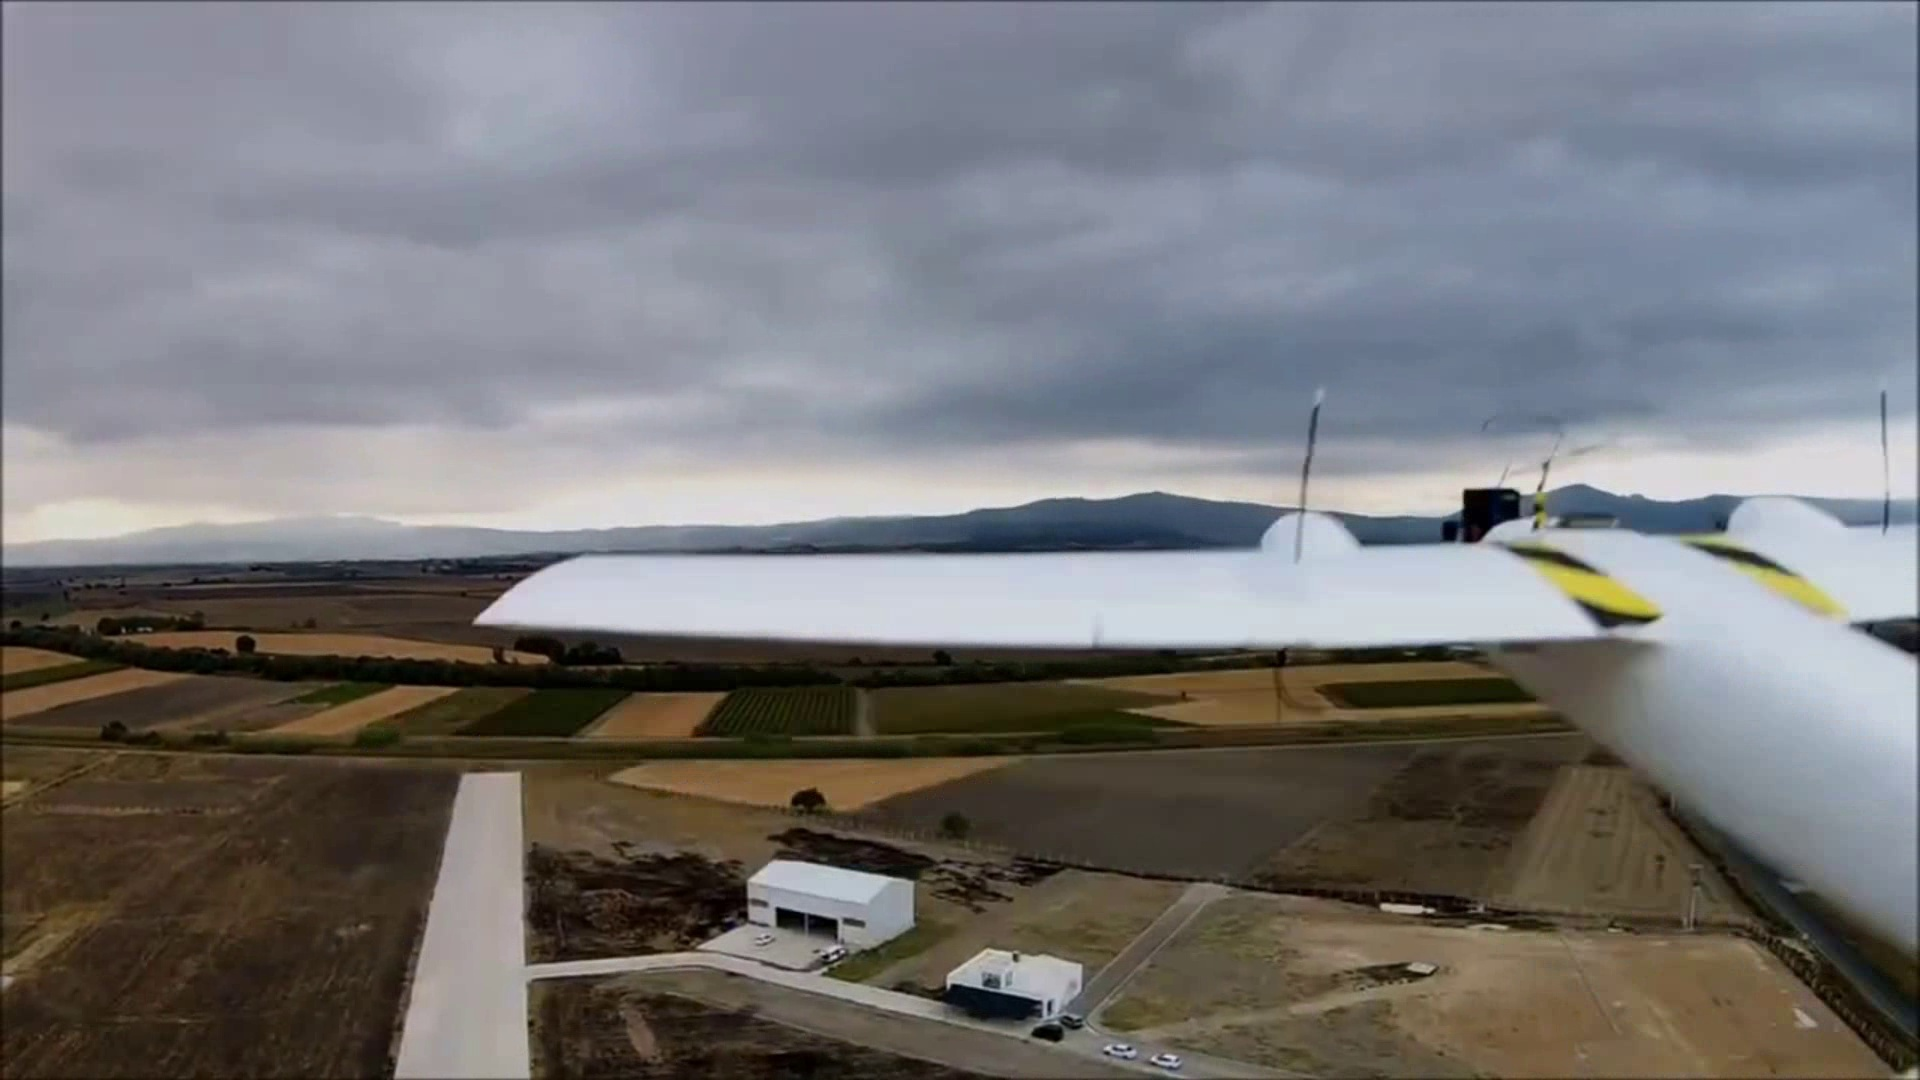airplane: (481, 392, 1917, 1000)
